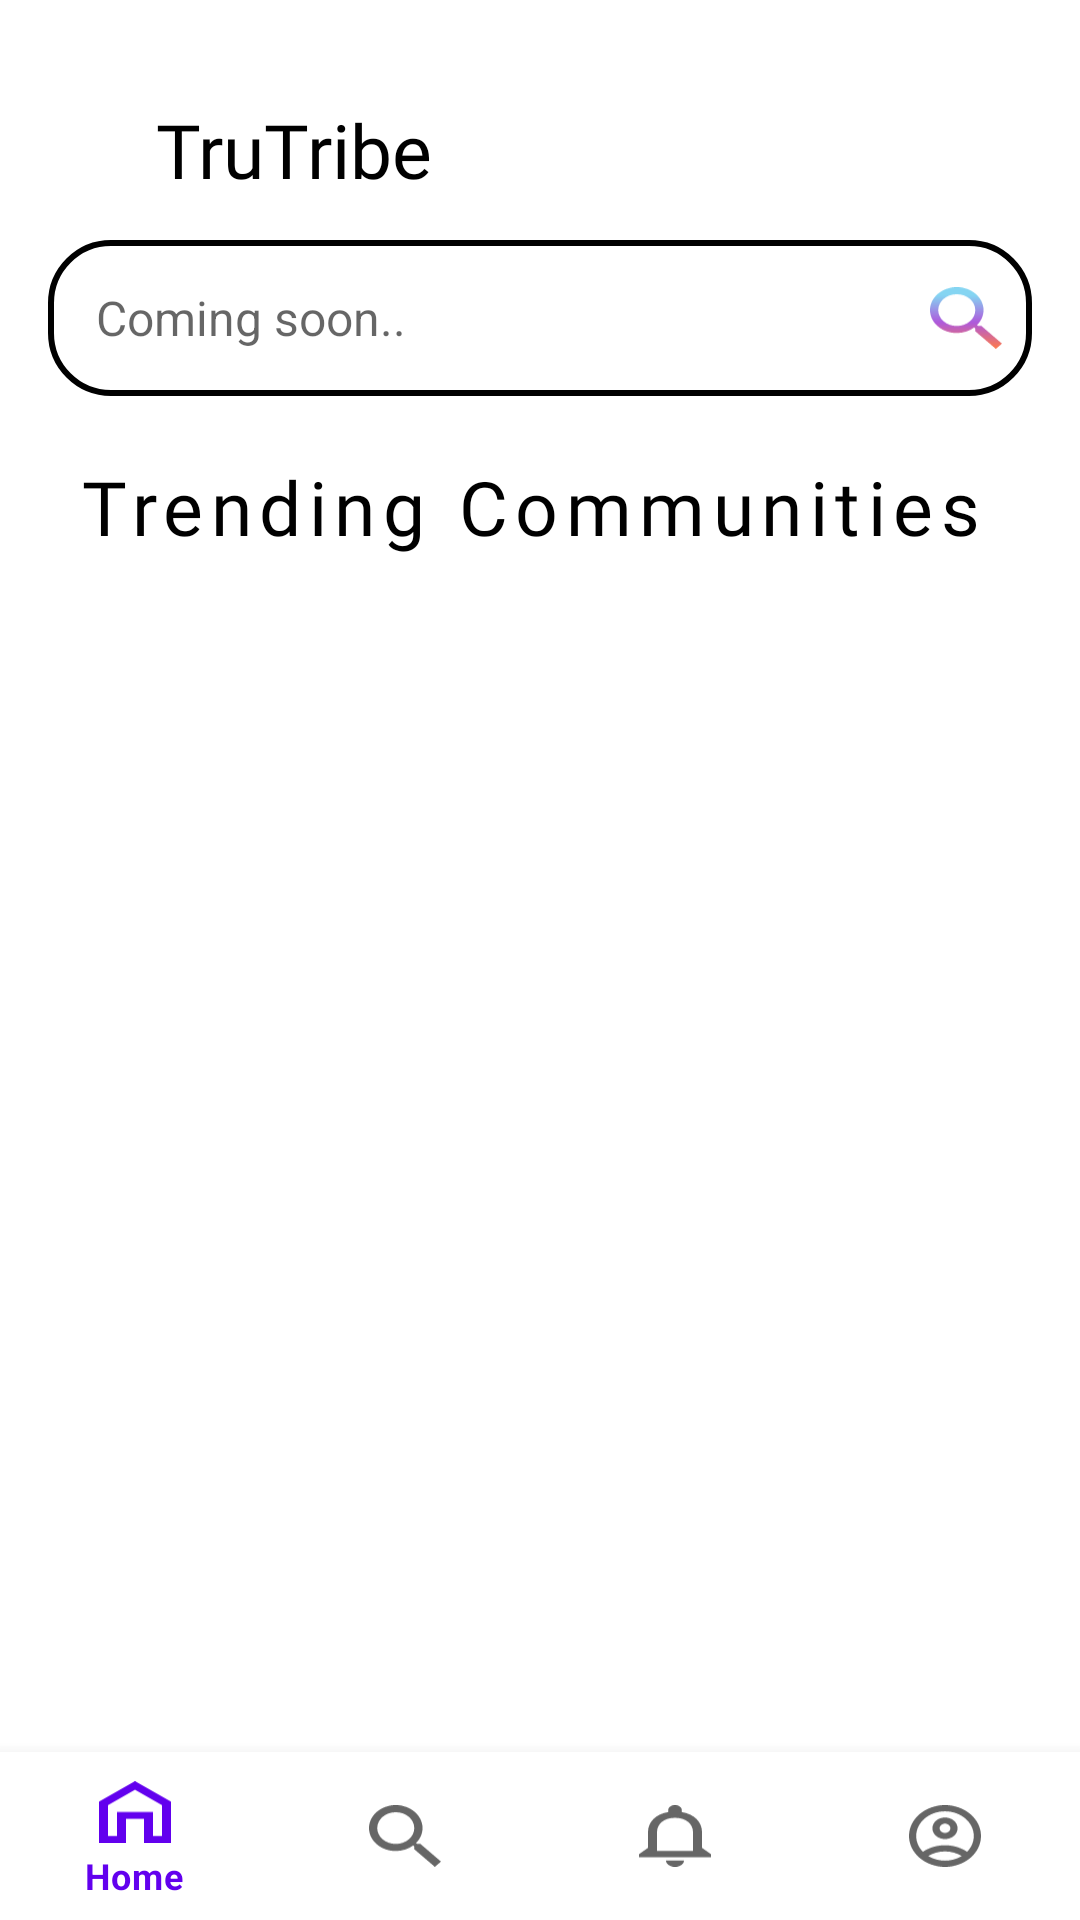

Icons on this 1080x1920 Android screen, each with its box as (x1, y1, x2, y2):
search: (930, 287, 1002, 349)
